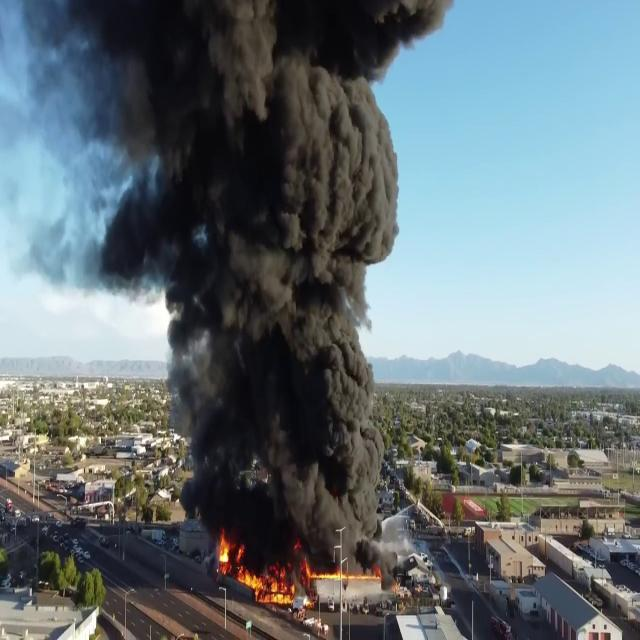Fire: (214, 523, 316, 612), (314, 568, 374, 584)
Smoke: (66, 1, 412, 508)
